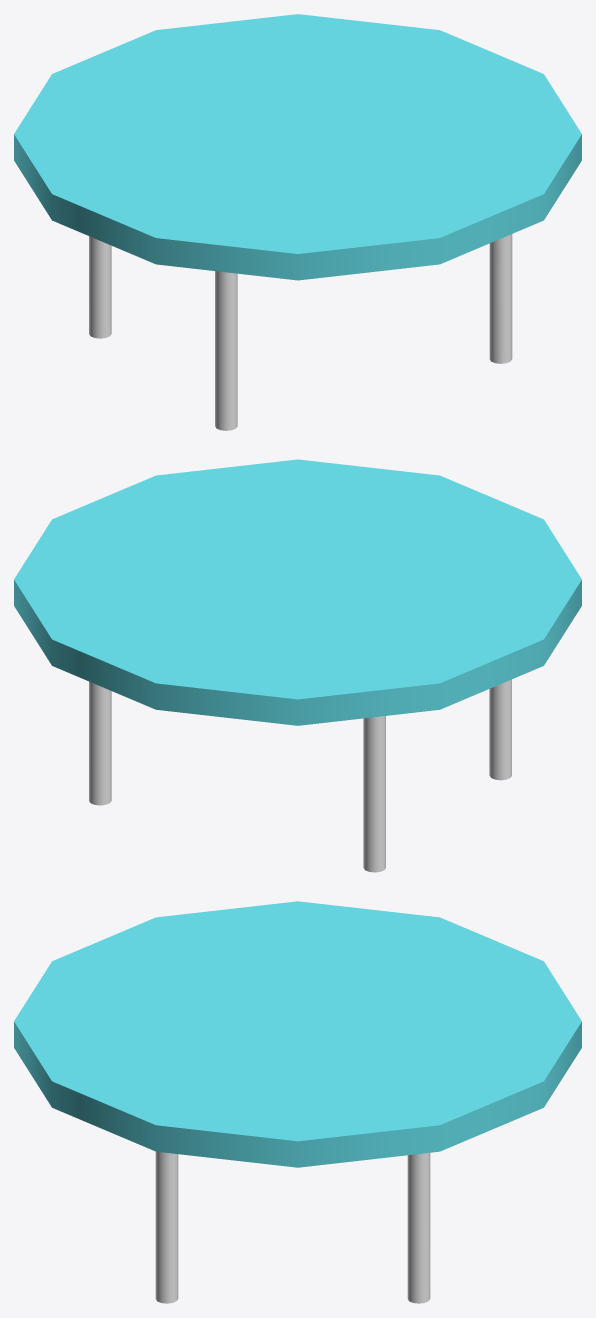
File: table.fbx
3 renders of one model, top to bottom at view 1: azimuth 30°, elevation 25°; view 2: azimuth 150°, elevation 25°; view 3: azimuth 270°, elevation 25°, orthographic.
Parts seen in each view (by area): view 1: Cylinder001; view 2: Cylinder001; view 3: Cylinder001.
Boxes of the visible parts, x1,y1,x2,y2 form: Cylinder001: (14, 14, 581, 430); Cylinder001: (14, 459, 581, 872); Cylinder001: (14, 901, 581, 1303).
Size of the model in its own units: 81.64 by 33.4 by 81.64.
